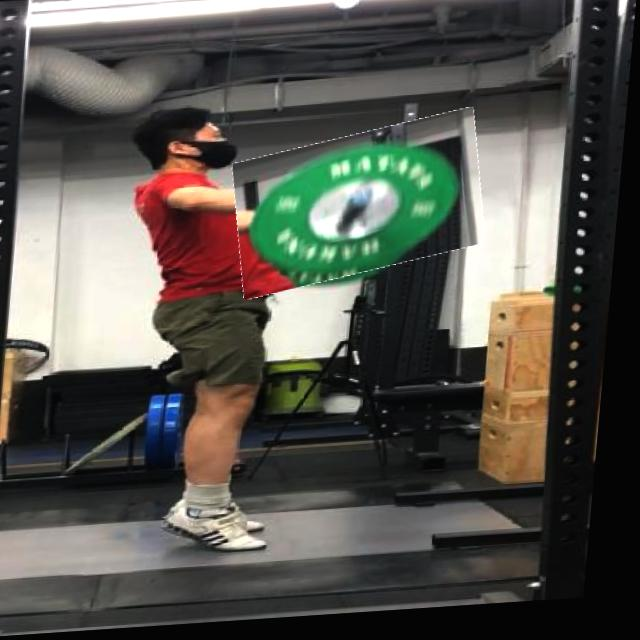barbell: (232, 123, 495, 296)
